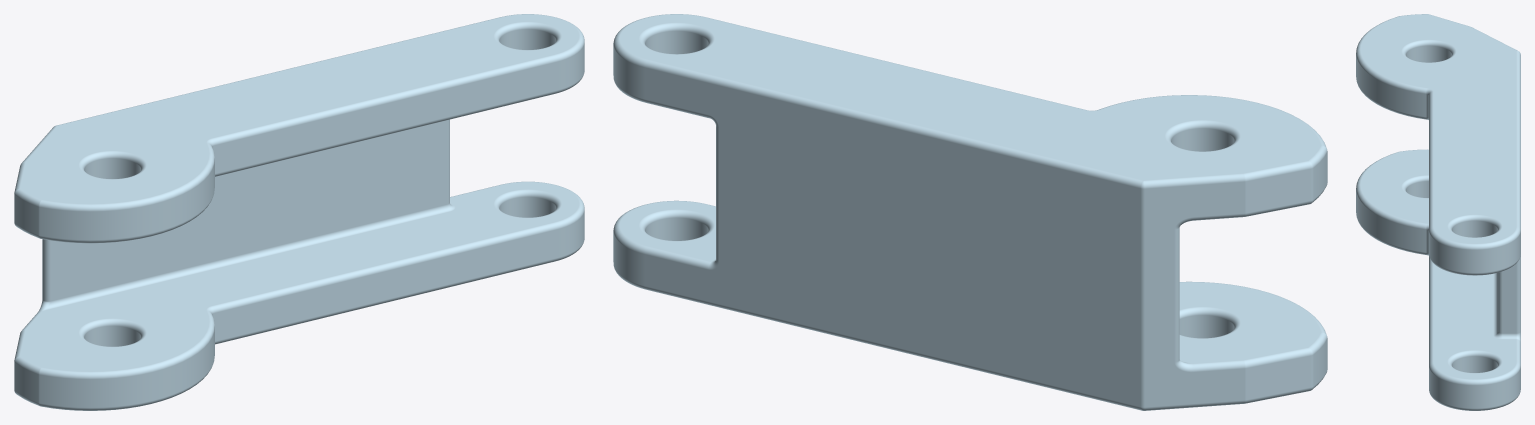
File: Joint2.gltf
3 views of the same model, side by side, from view 1: azimuth 30°, elevation 25°; view 2: azimuth 150°, elevation 25°; view 3: azimuth 270°, elevation 25° (orthographic). The views are drawn at different scales.
Parts seen in each view (by area): view 1: Part 1; view 2: Part 1; view 3: Part 1.
Boxes of the visible parts, x1=… form: Part 1: x1=14, y1=14, x2=584, y2=410; Part 1: x1=613, y1=14, x2=1327, y2=410; Part 1: x1=1356, y1=14, x2=1520, y2=410.
Bounding box in the file's own units: 0.12 × 0.04 × 0.0358.
